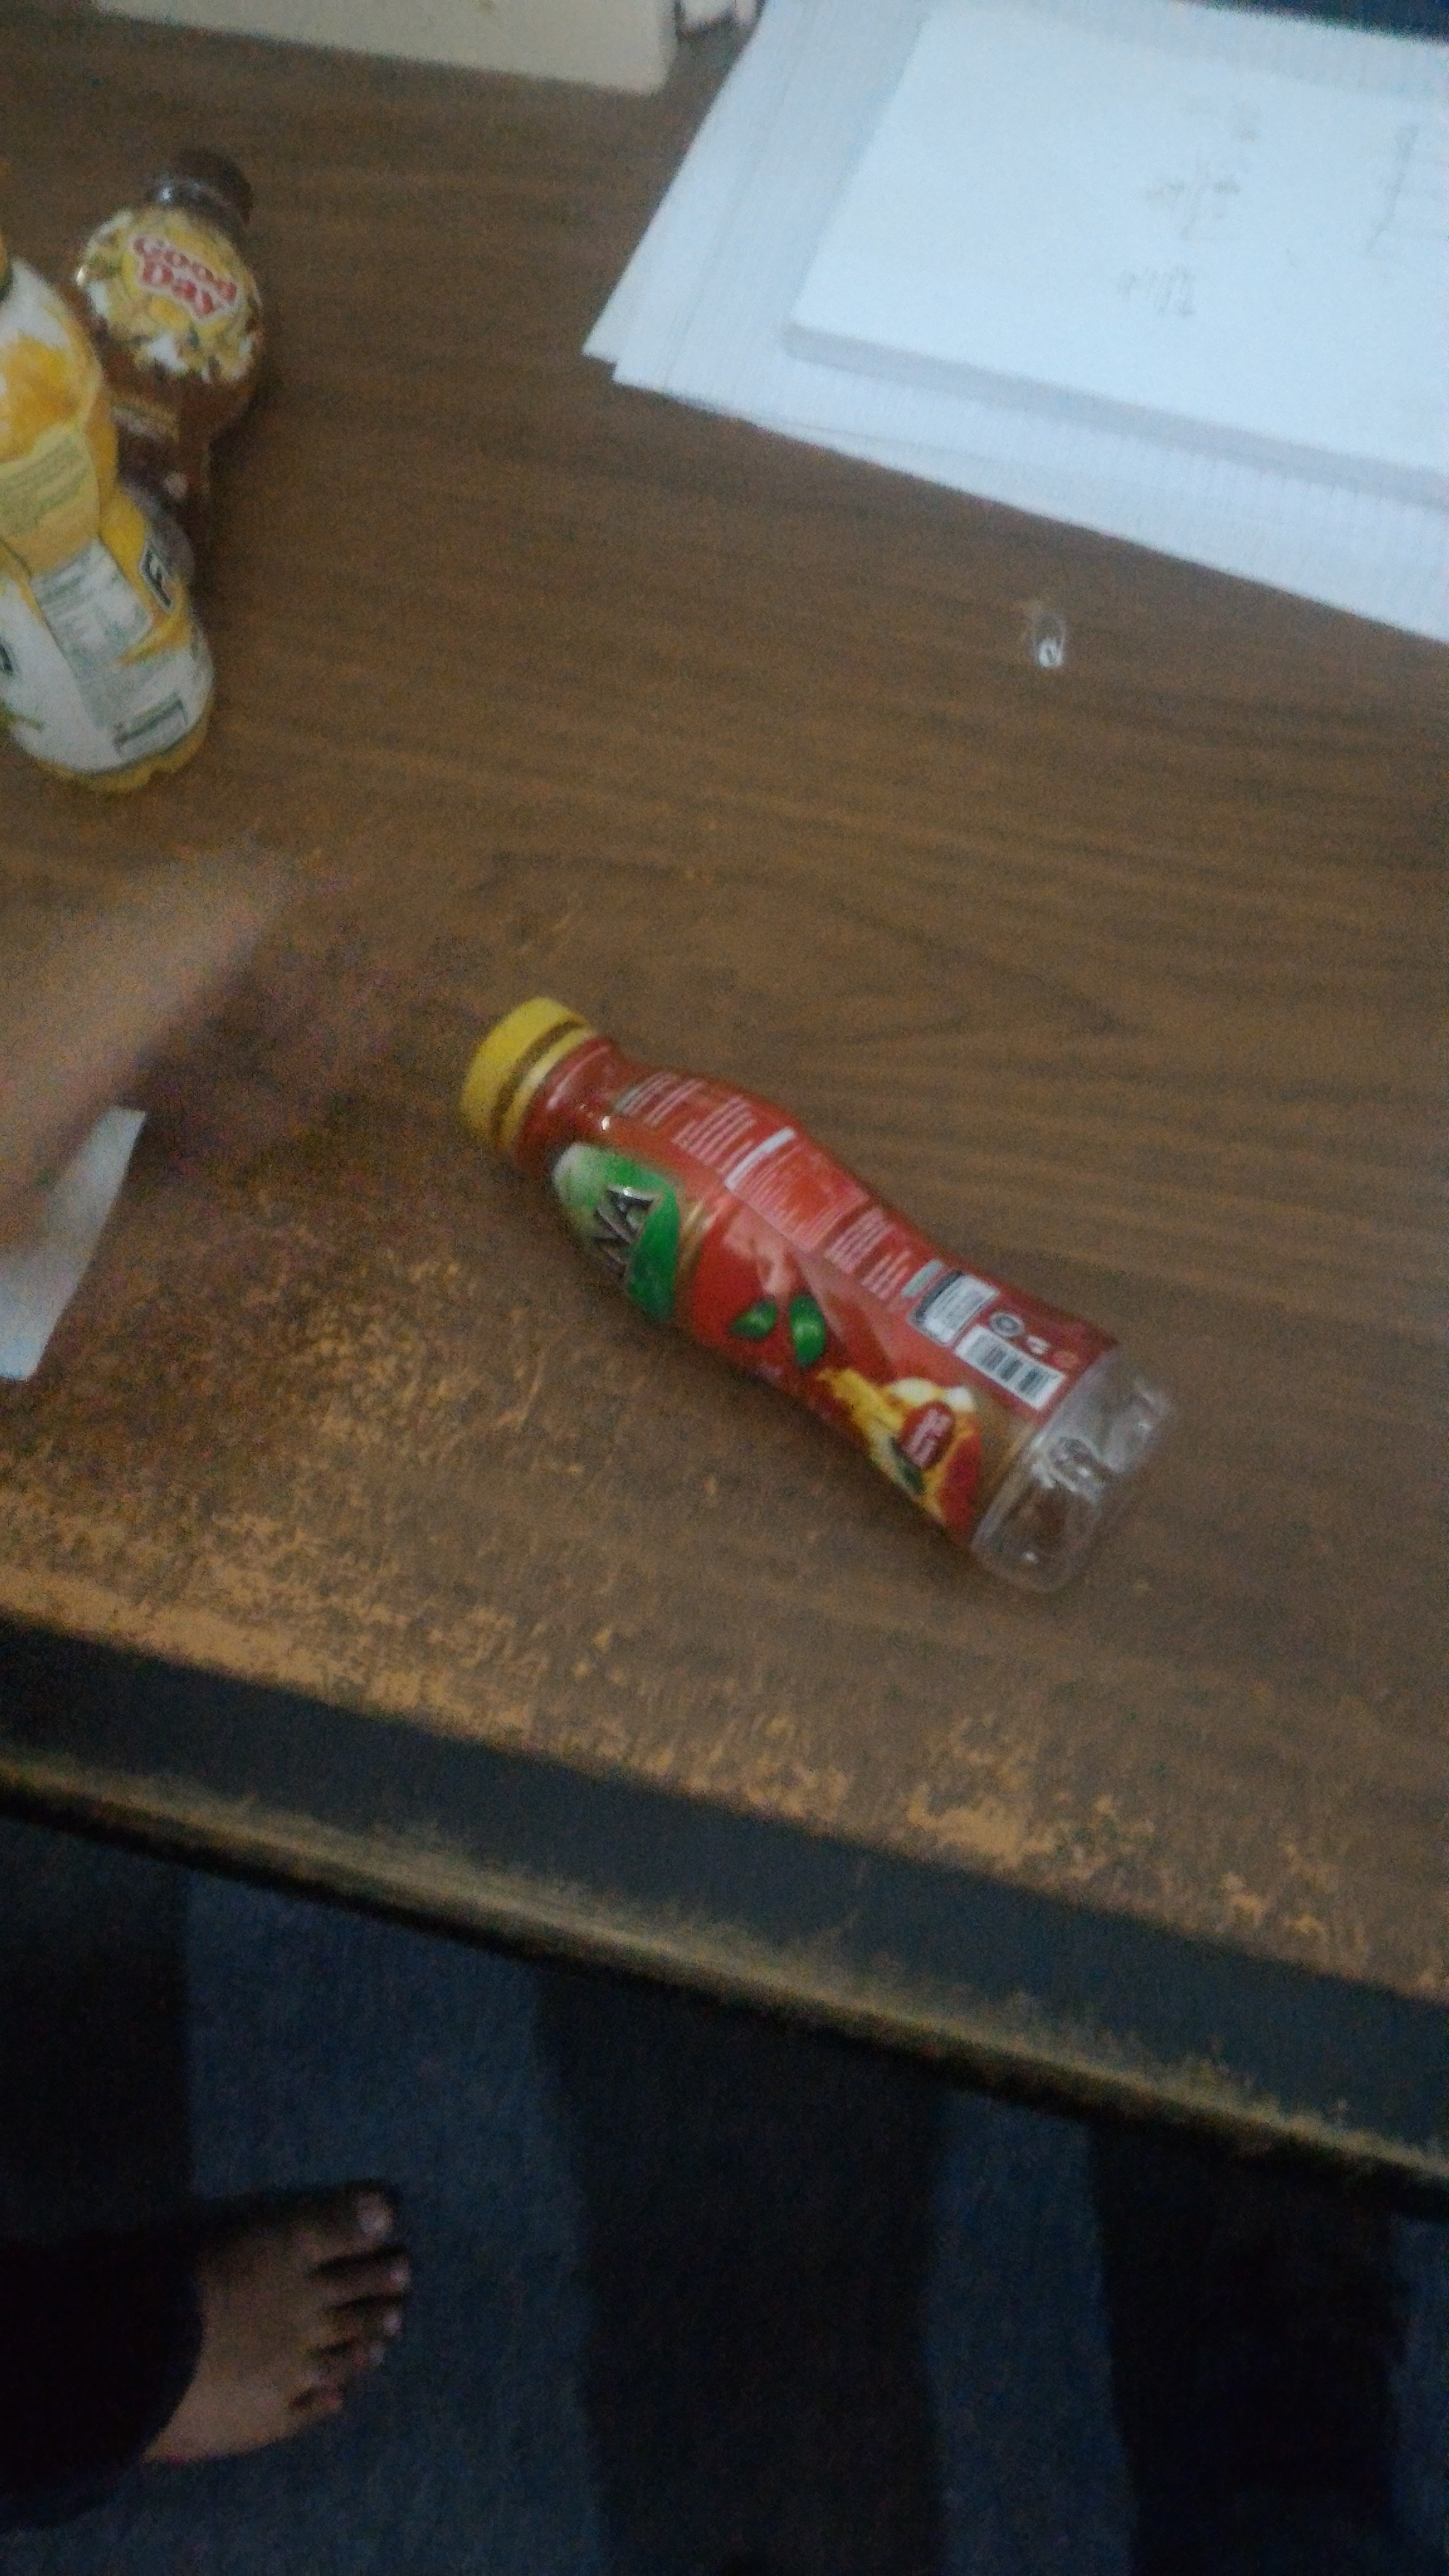botol: (458, 978, 1185, 1603), (458, 985, 1185, 1603), (467, 978, 1185, 1603)
